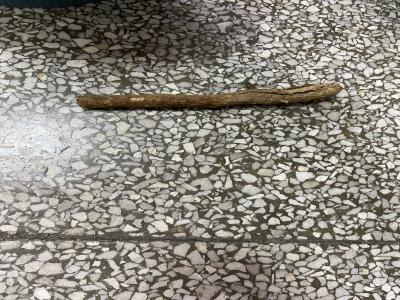Root: (77, 83, 342, 108)
